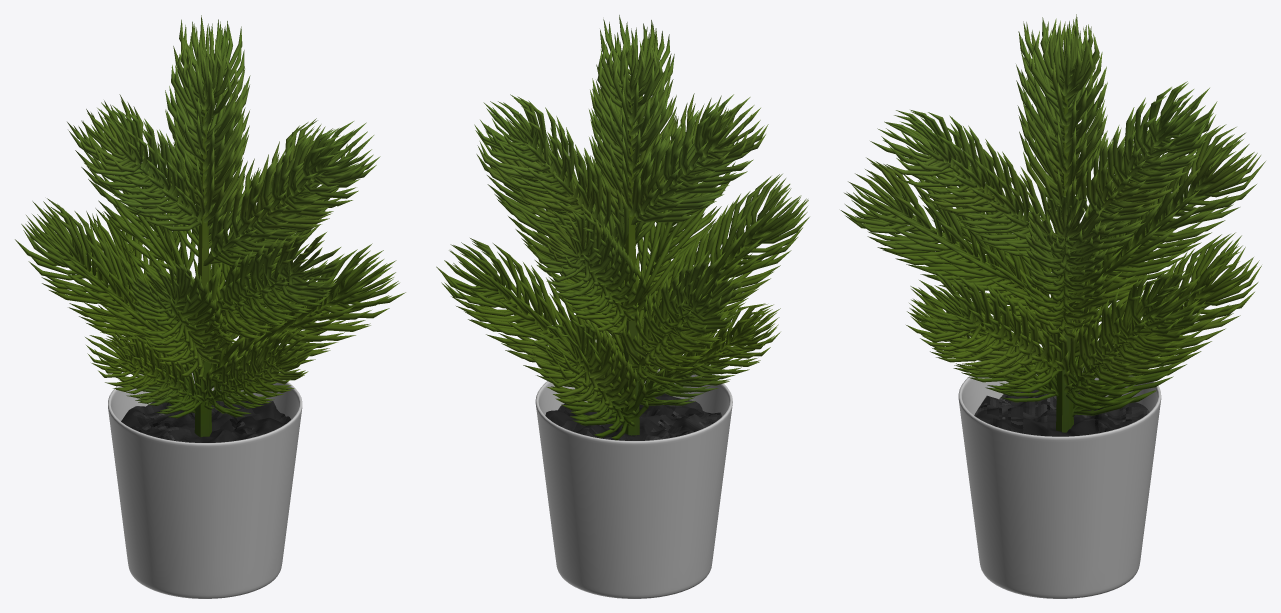
The picture shows the model from 3 angles, left to right: view 1: azimuth 30°, elevation 25°; view 2: azimuth 150°, elevation 25°; view 3: azimuth 270°, elevation 25°; orthographic projection. The views are drawn at different scales.
Parts seen in each view (by area): view 1: Line12120, Cylinder011, Cylinder012; view 2: Line12120, Cylinder011, Cylinder012; view 3: Line12120, Cylinder011, Cylinder012.
Part boxes in pixels (x1,y1,x2,y2): Line12120: [15, 15, 405, 437]; Cylinder011: [108, 373, 302, 598]; Cylinder012: [121, 399, 290, 442]; Line12120: [436, 15, 809, 440]; Cylinder011: [535, 369, 732, 598]; Cylinder012: [545, 393, 721, 440]; Line12120: [840, 14, 1265, 432]; Cylinder011: [958, 367, 1161, 598]; Cylinder012: [974, 390, 1149, 436].
Size of the model in its own units: 0.1037 by 0.1784 by 0.1274.
3 materials, 2 textured.
